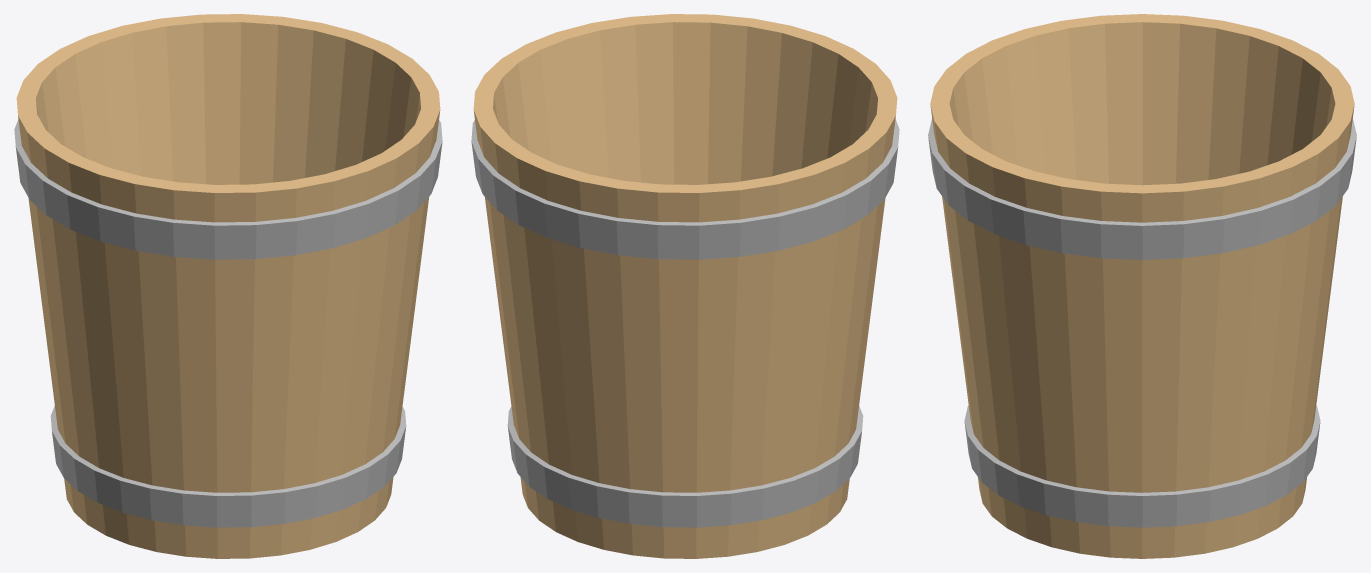
The model's file is bucket.glb.
The picture shows the model from 3 angles, left to right: view 1: azimuth 30°, elevation 25°; view 2: azimuth 150°, elevation 25°; view 3: azimuth 270°, elevation 25°; orthographic projection.
Parts seen in each view (by area): view 1: bucket; view 2: bucket; view 3: bucket.
Part boxes in pixels (left/top/right/bottom): bucket: left=14, top=14, right=442, bottom=558; bucket: left=471, top=14, right=899, bottom=558; bucket: left=928, top=14, right=1356, bottom=558.
Bounding box in the file's own units: 3.46 × 3.44 × 3.46.
